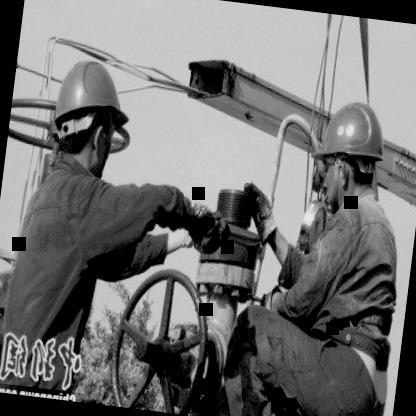helmet: (38, 46, 139, 186), (304, 89, 392, 220)
